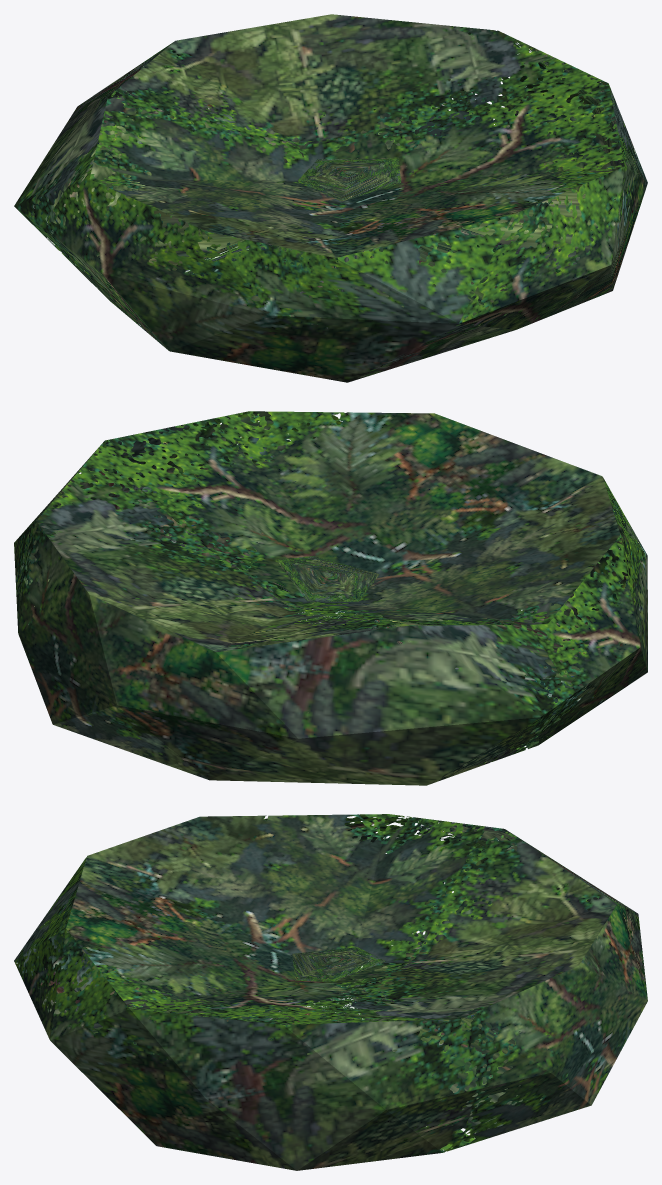
Rendered from MTree_2_Bch_3.gltf.
3 views of the same model, one above another, from view 1: azimuth 30°, elevation 25°; view 2: azimuth 150°, elevation 25°; view 3: azimuth 270°, elevation 25° (orthographic). The views are drawn at different scales.
Parts seen in each view (by area): view 1: MTree_2_Bch_3; view 2: MTree_2_Bch_3; view 3: MTree_2_Bch_3.
Boxes of the visible parts, x1,y1,x2,y2 form: MTree_2_Bch_3: (14, 14, 647, 382); MTree_2_Bch_3: (14, 411, 647, 785); MTree_2_Bch_3: (14, 814, 647, 1170).
Bounding box in the file's own units: 5.74 × 1.53 × 5.77.
1 material, 1 textured.
